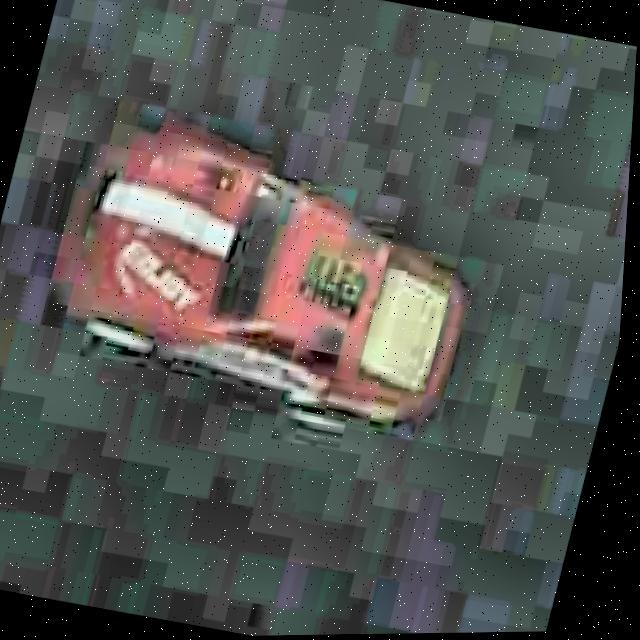car: (17, 116, 505, 457)
